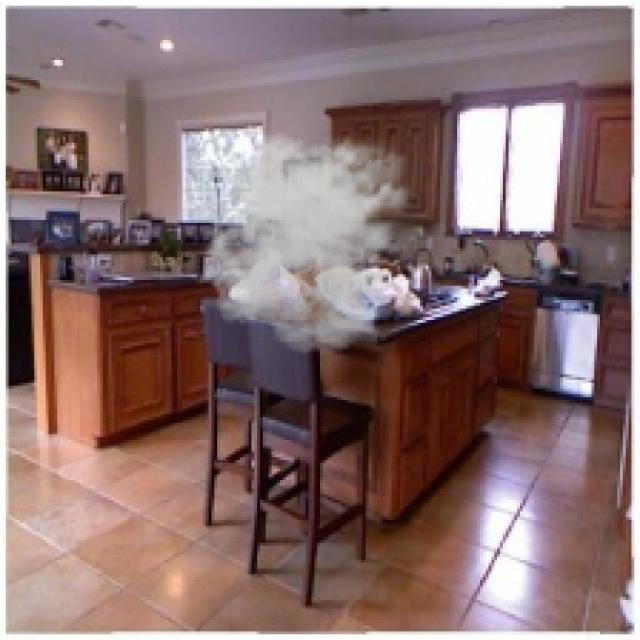Smoke: (197, 126, 423, 354)
